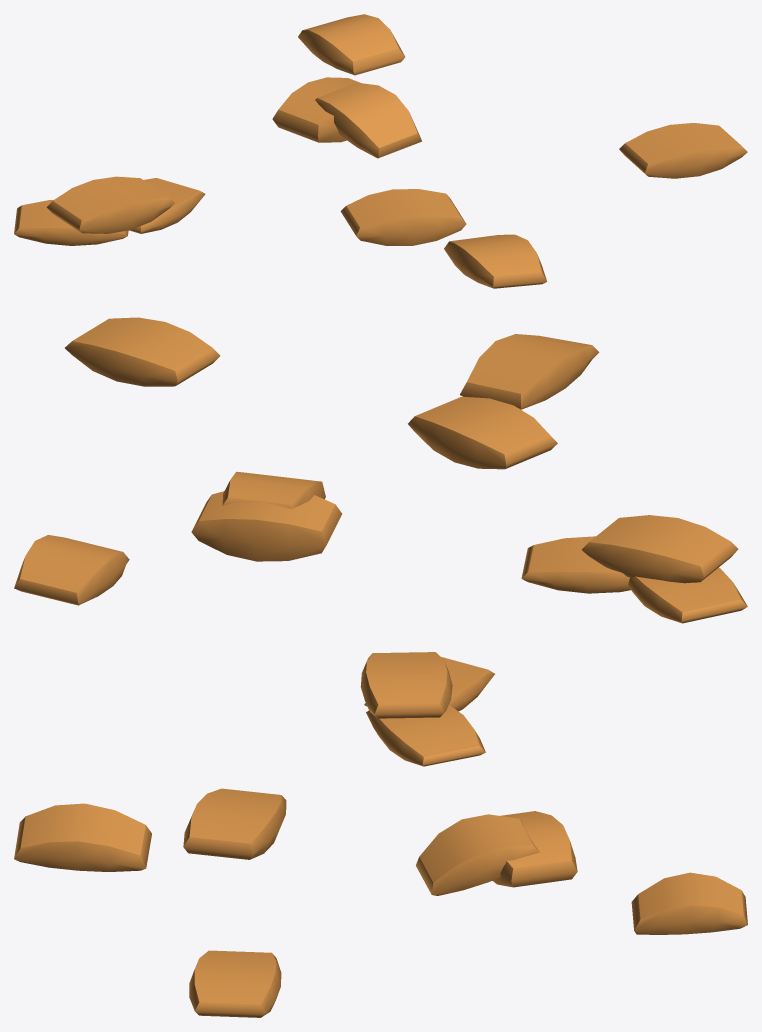
Rendered from SM_SandbagScatter.fbx.
3 views of the same model, one above another, from view 1: azimuth 30°, elevation 25°; view 2: azimuth 150°, elevation 25°; view 3: azimuth 270°, elevation 25° (orthographic). The views are drawn at different scales.
Visible parts, largest first — view 1: Sandbag scatter001; view 2: Sandbag scatter001; view 3: Sandbag scatter001.
Boxes of the visible parts, <box> form: Sandbag scatter001: <box>14,14,747,288</box>; Sandbag scatter001: <box>14,317,747,623</box>; Sandbag scatter001: <box>14,652,747,1017</box>.
Bounding box in the file's own units: 331 × 20.03 × 285.
